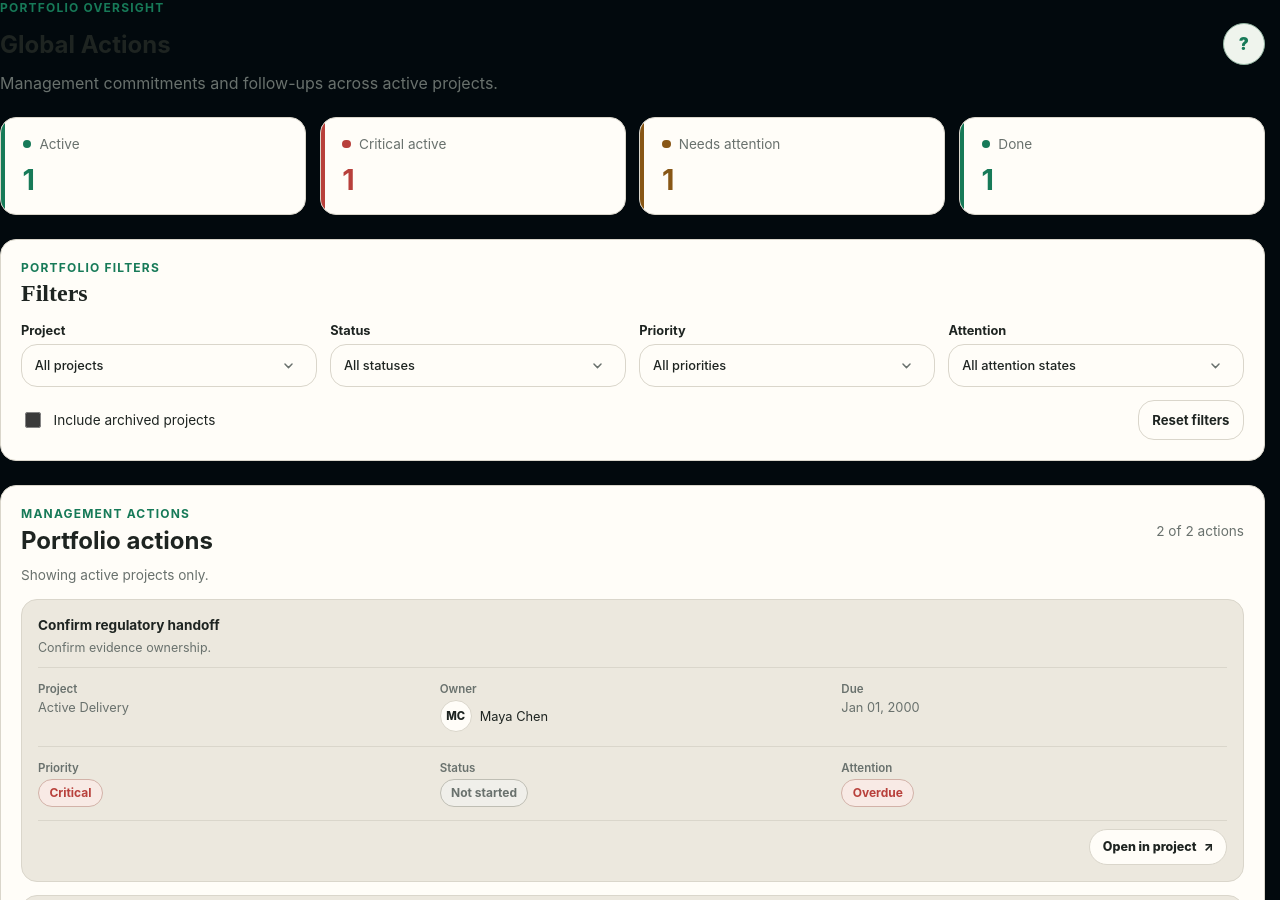
GlobalActionsPage › combines filters without changing portfolio metrics and supports reset
This screenshot has width=1280, height=900.
Expected: the heading "Confirm regulatory handoff" is shown, [38,617,220,633]
Select "Done" in the dropdown labelled "Status" at (478, 366), box [330,344,626,387]
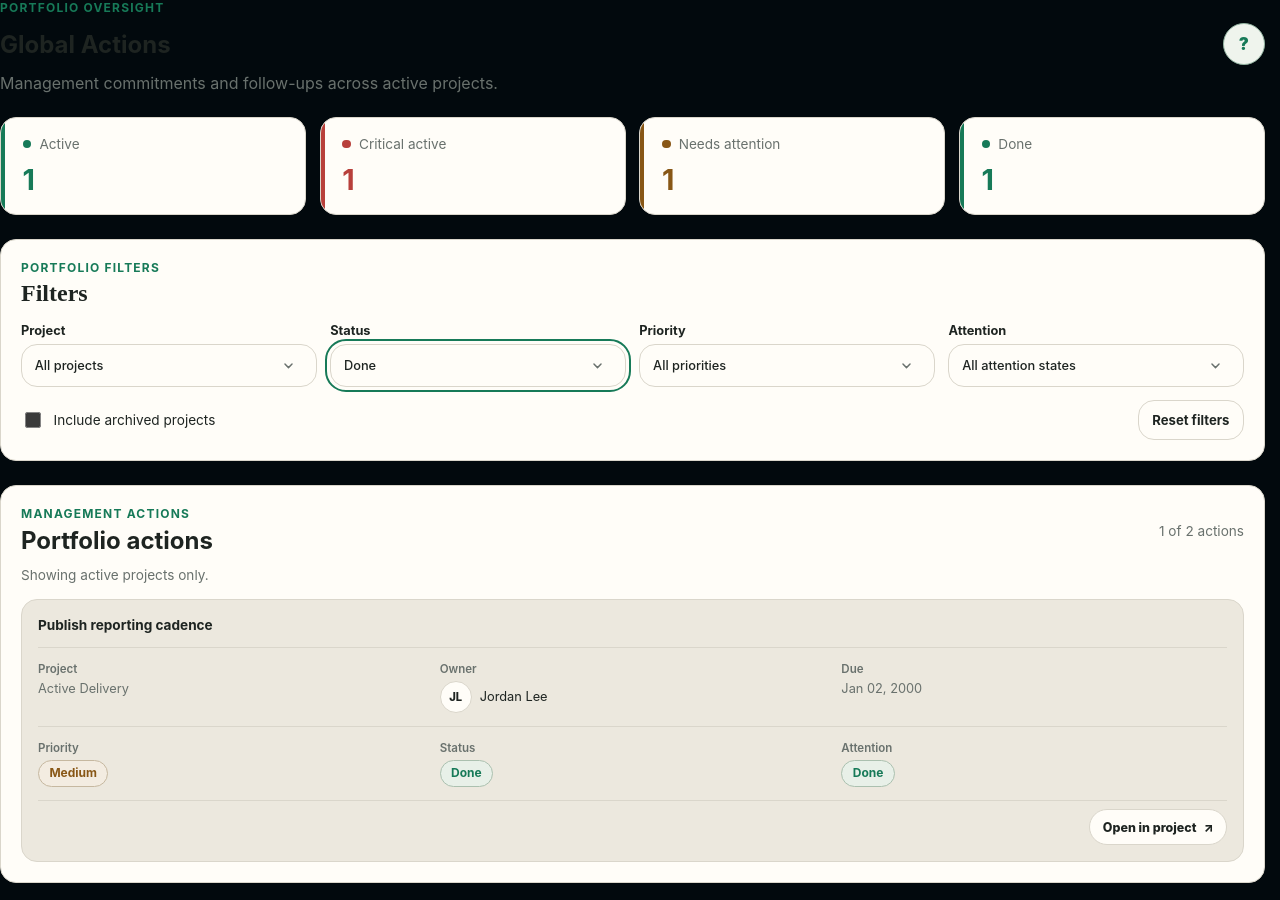
Expected: the heading "Publish reporting cadence" is shown, [38,617,213,633]
Expected: the heading "Confirm regulatory handoff" is gone
Select "Critical" in the dropdown labelled "Priority" at (787, 366), box [639,344,935,387]
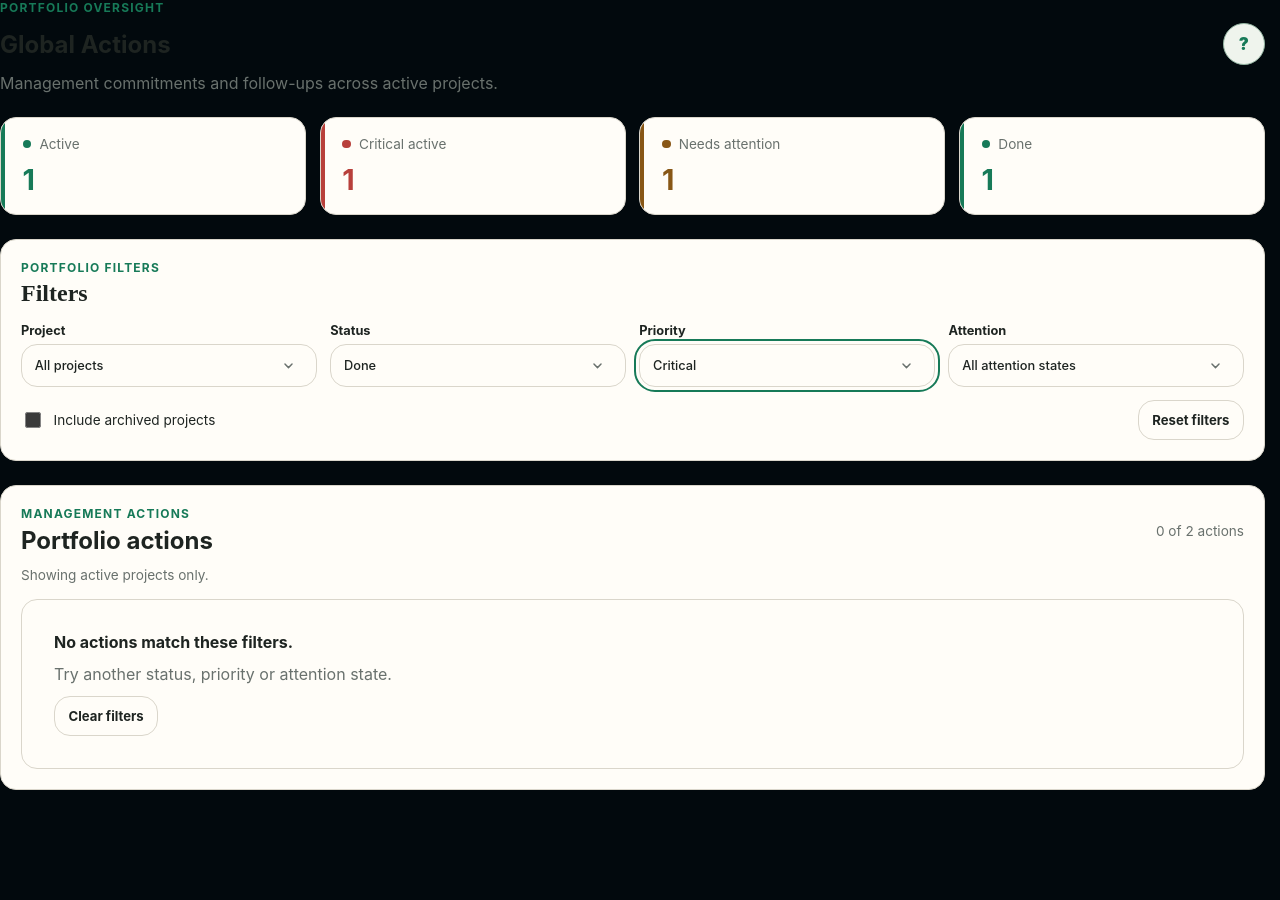
Expected: the text "No actions match these filters." is shown, [54,632,293,652]
Click the button "Clear filters" at (106, 716), box [54,696,158,736]
(page scrolled)
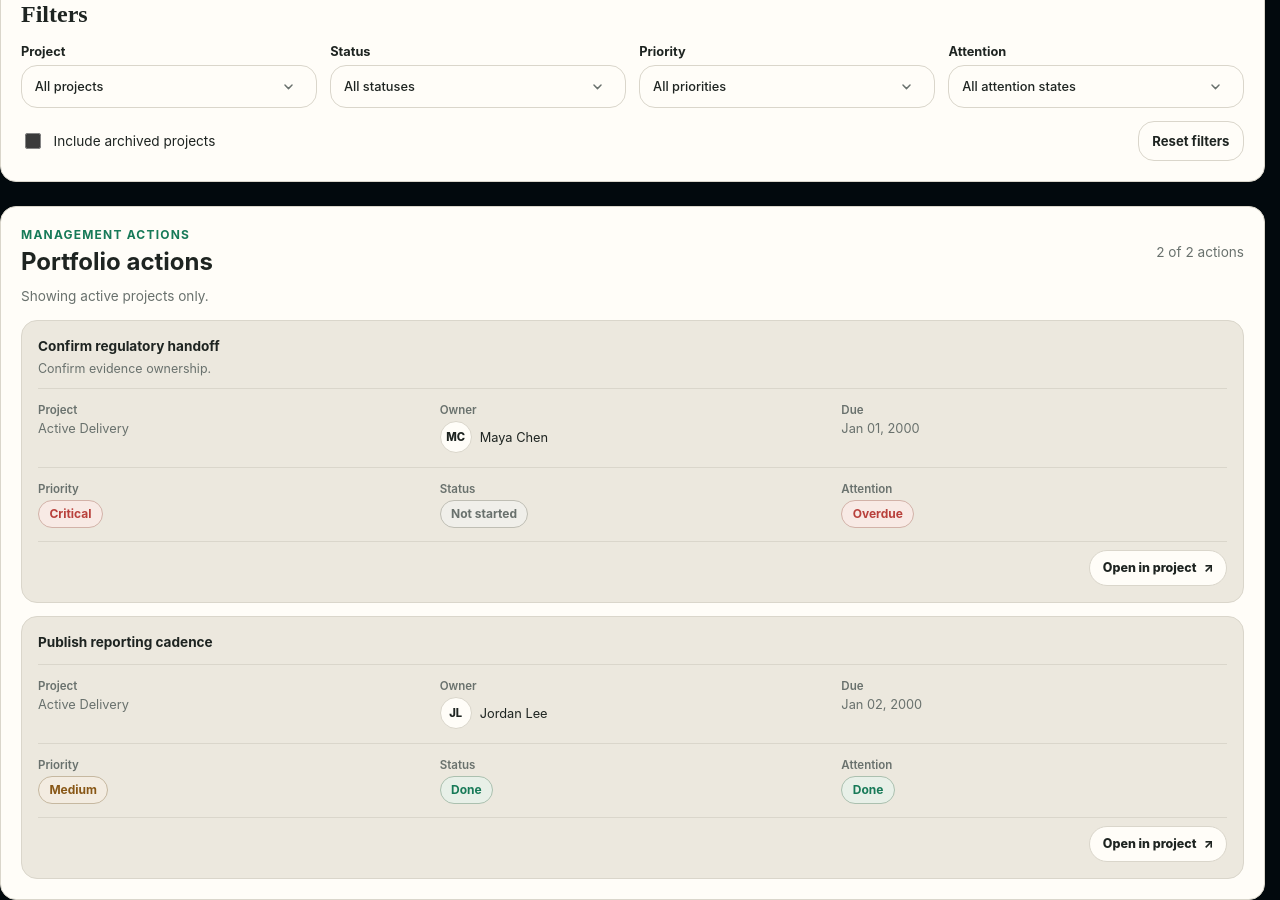
Expected: the heading "Confirm regulatory handoff" is shown, [38,338,220,354]
Expected: the heading "Publish reporting cadence" is shown, [38,634,213,650]
